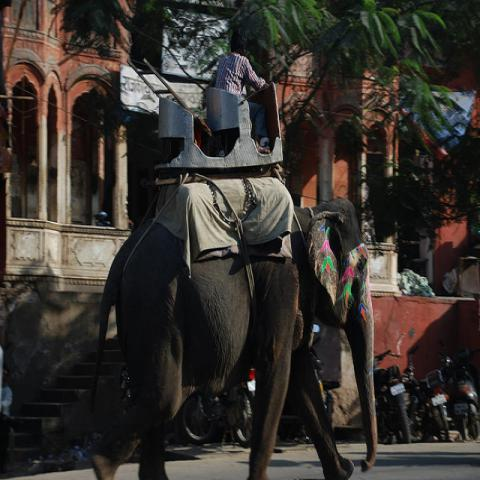motorcycle: (183, 364, 260, 452), (401, 344, 449, 443), (372, 348, 412, 442), (441, 351, 478, 442), (278, 396, 307, 438)
